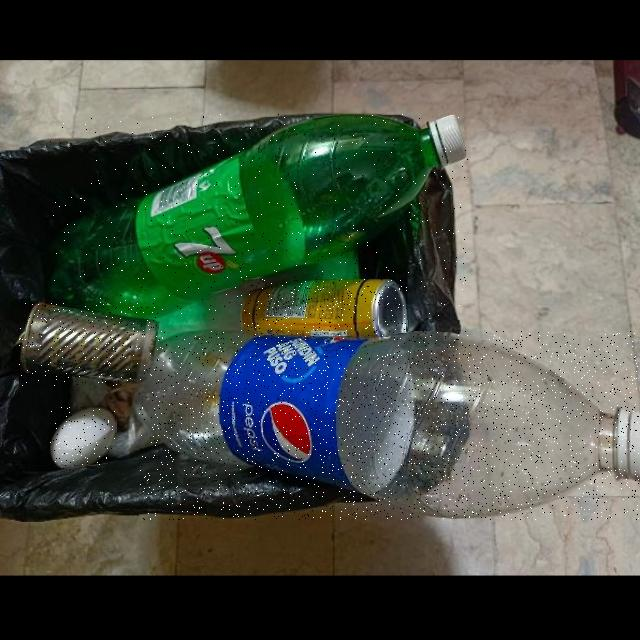biowaste: (50, 407, 116, 470)
metal: (19, 303, 158, 386), (241, 280, 407, 339)
plastic: (139, 332, 640, 520), (47, 114, 468, 320)
